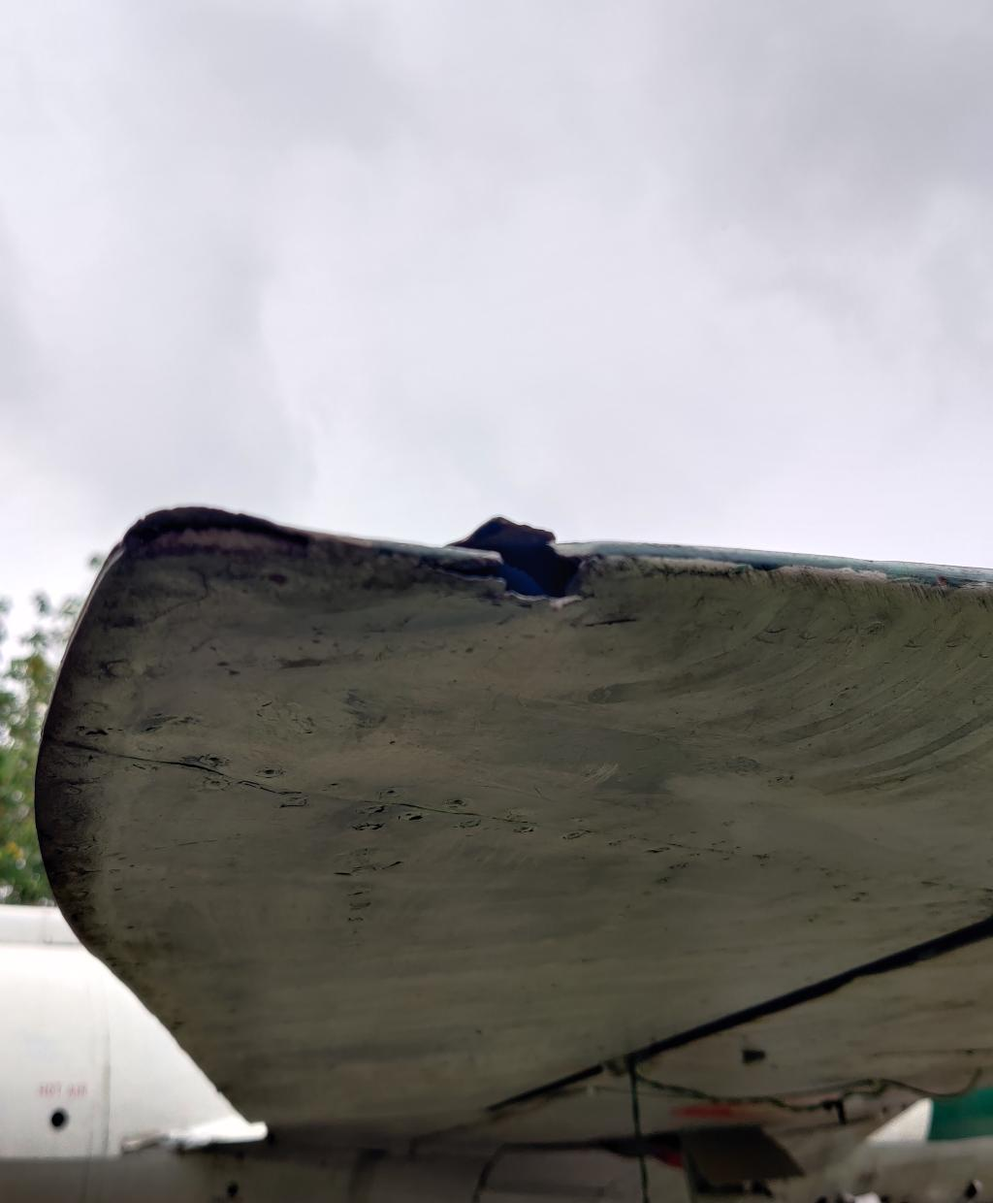crack: (427, 485, 619, 634)
